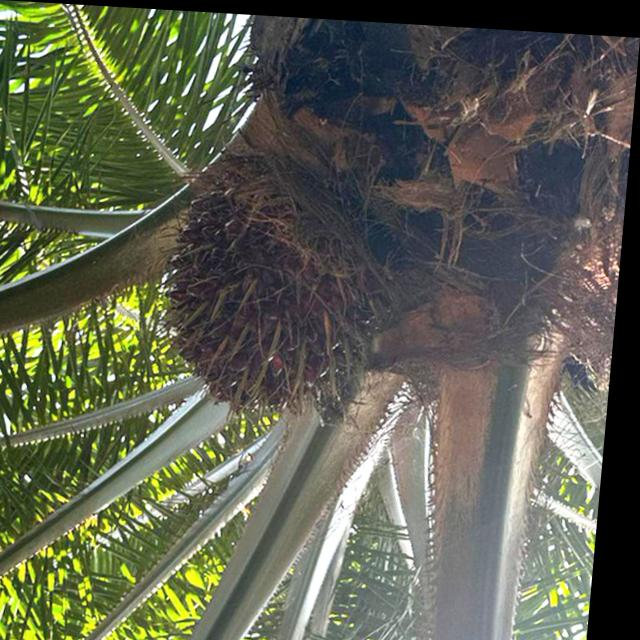ripe: (140, 136, 419, 439)
